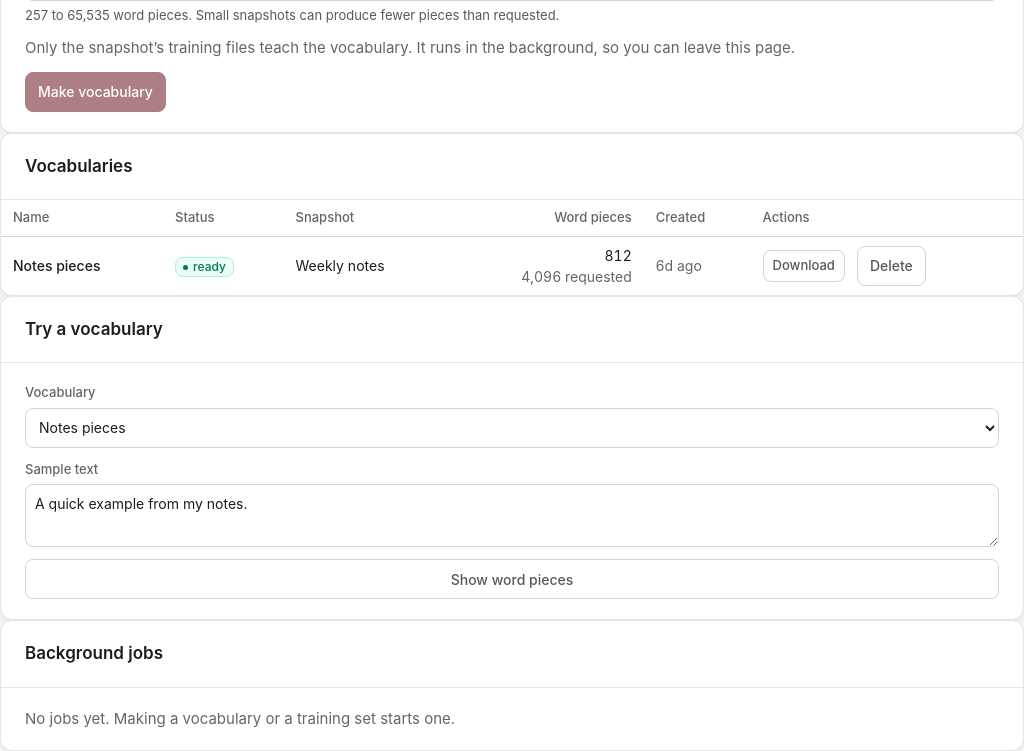
Test case: lists vocabularies and lets you try one on your own text
The width and height of the screenshot is (1024, 751).
(page scrolled)
Expected: the text "Notes pieces" is shown, [1,236,163,294]
Expected: the text "812" is shown, [604,246,632,264]
Replace the text in the text box labelled "Sample text" with "Hello world": (512, 516) [25,484,999,547]
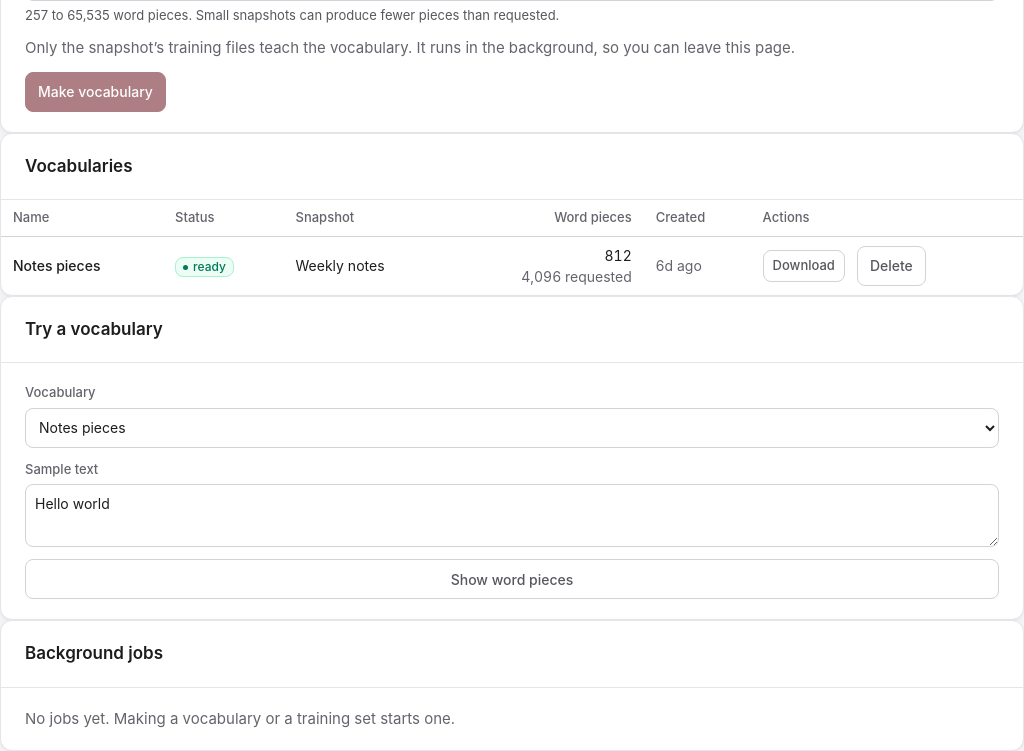
Click the button "Show word pieces": (512, 579) [25,559,999,599]
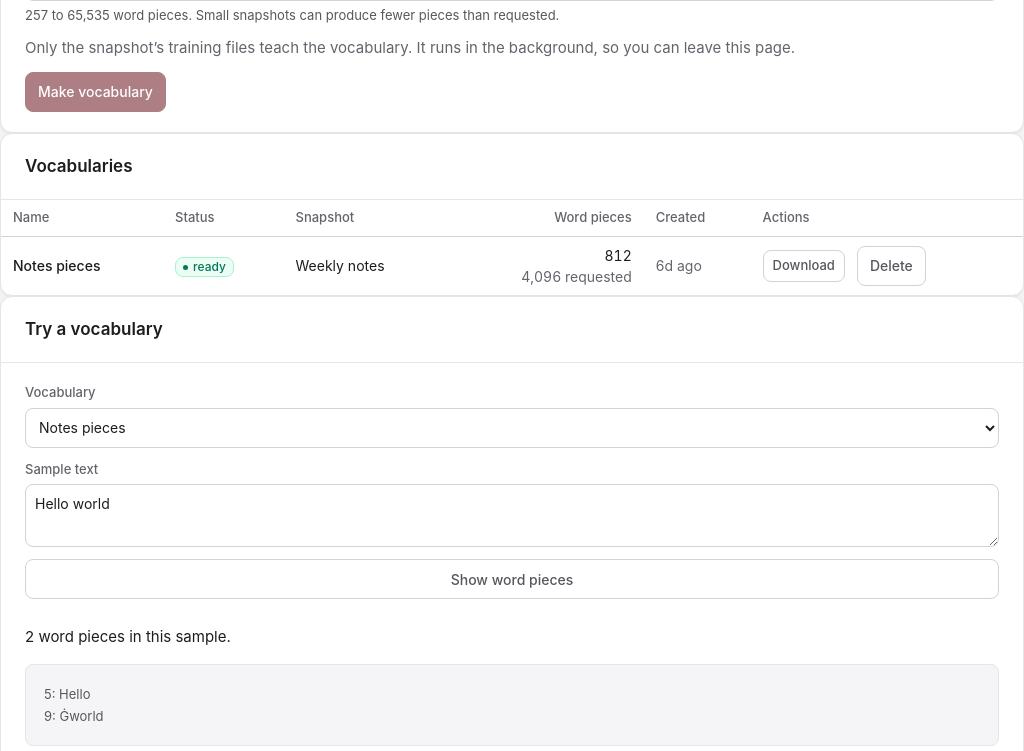
Now the text "2 word pieces in this sample." is shown, box [25,627,231,646]
